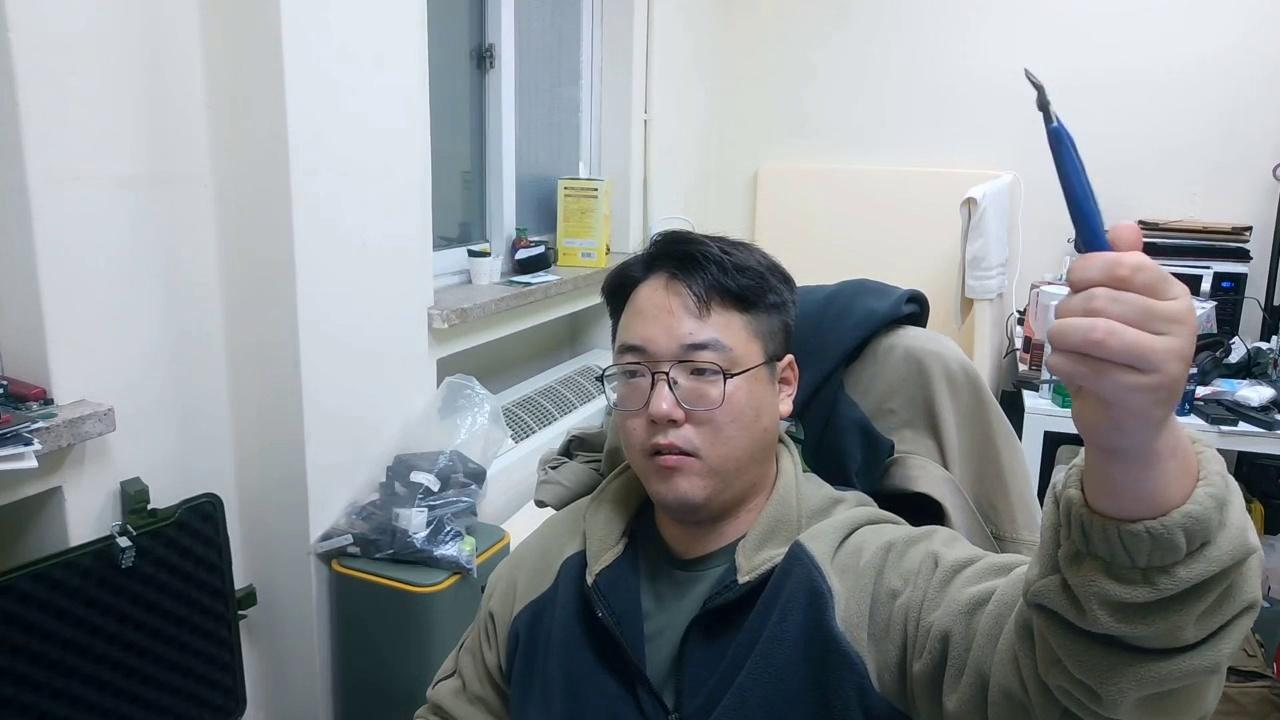blue_pliers: (1022, 66, 1116, 255)
